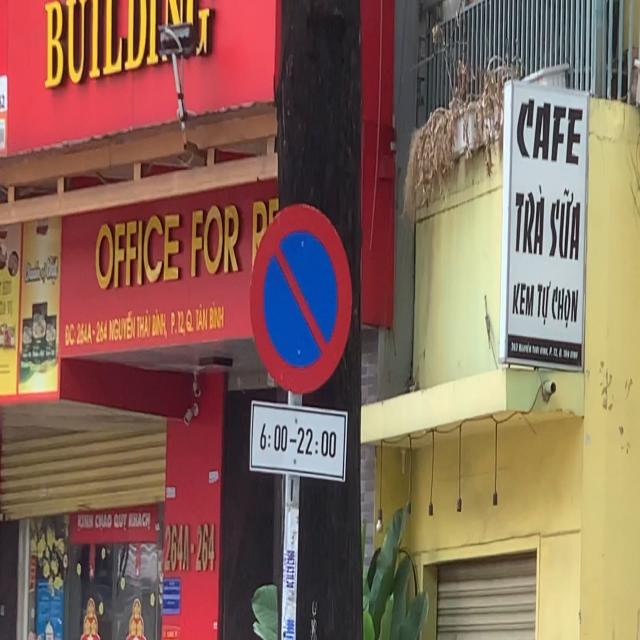Cam do: (248, 203, 352, 394)
